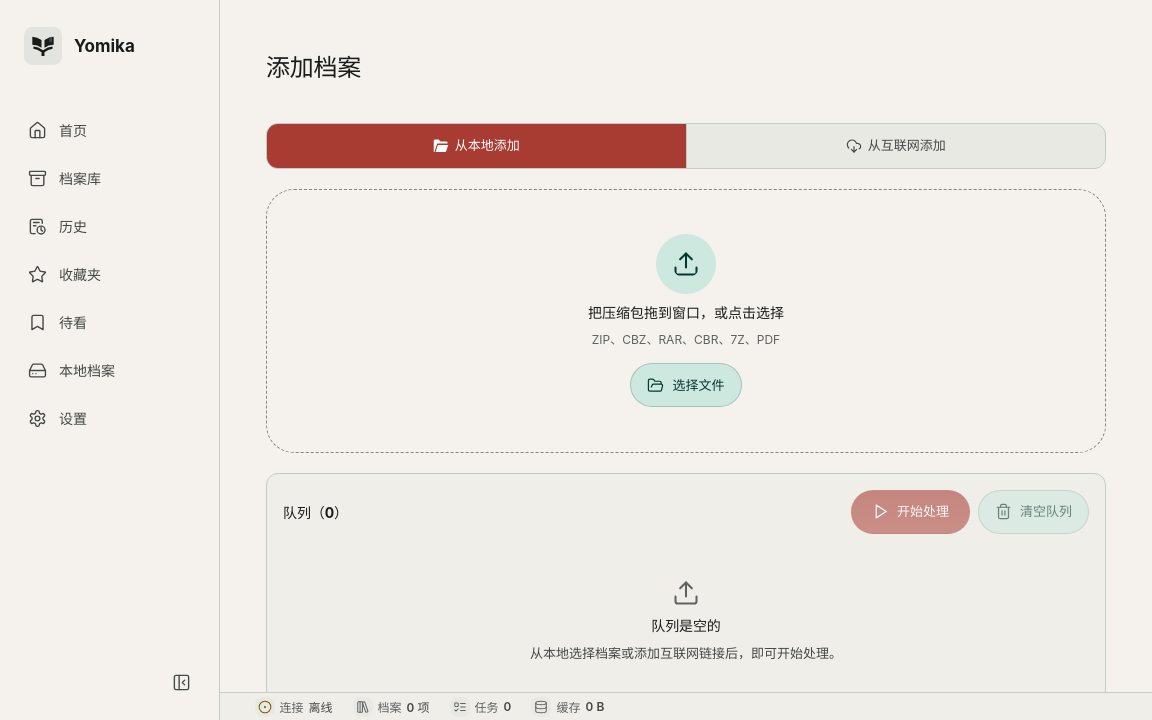
Test: archive upload › recovers from a failed file picker and permits another selection
Click the button "选择文件" at (686, 385), box [630,363,742,407]
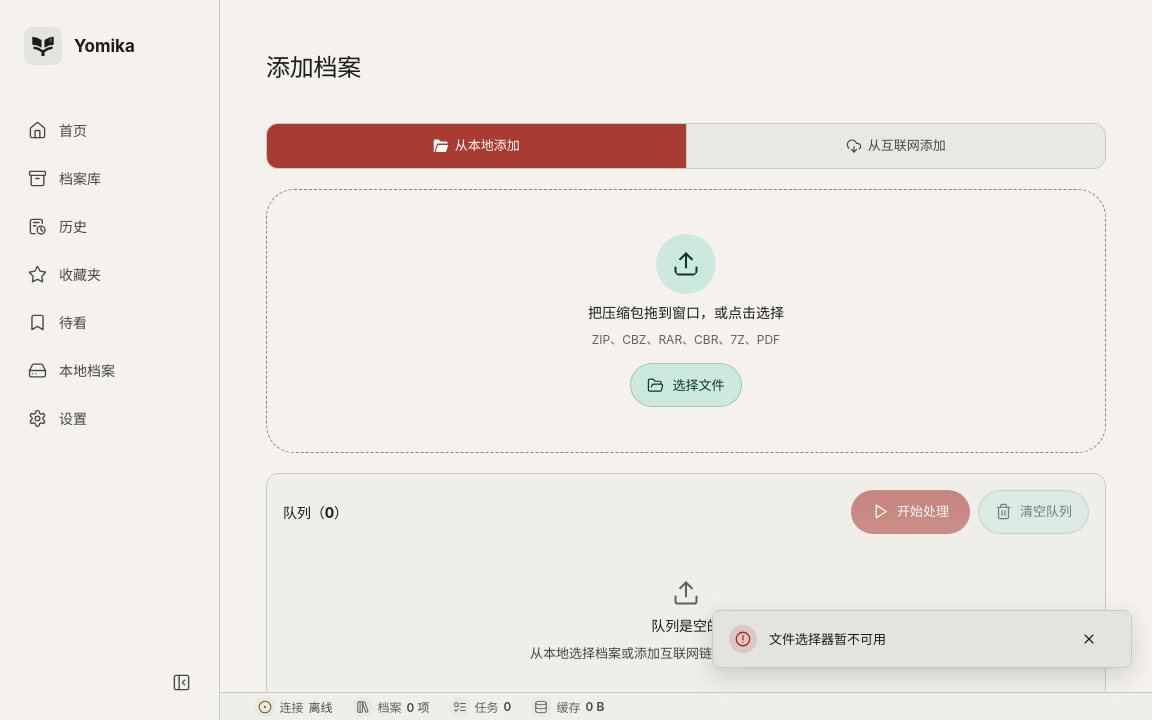
Check: the message "文件选择器暂不可用" is shown, box [712,610,1132,668]
Click the button "选择文件" at (686, 385), box [630,363,742,407]
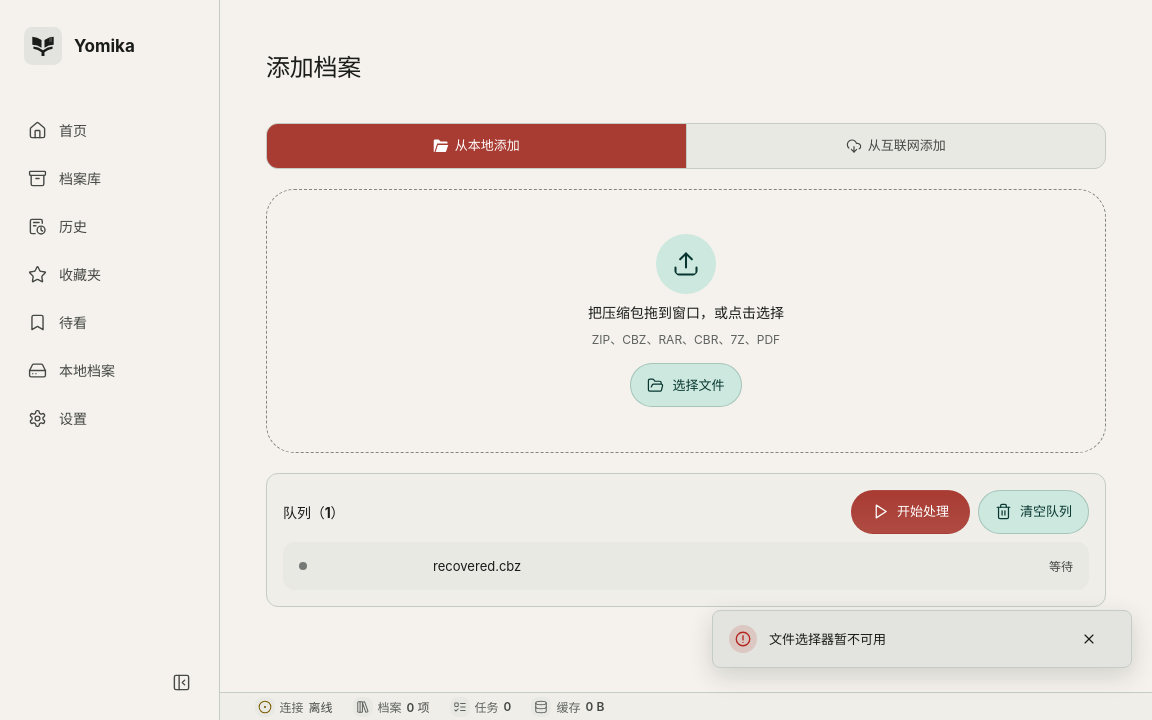
Check: the text "recovered.cbz" is shown, box [433,558,521,574]
